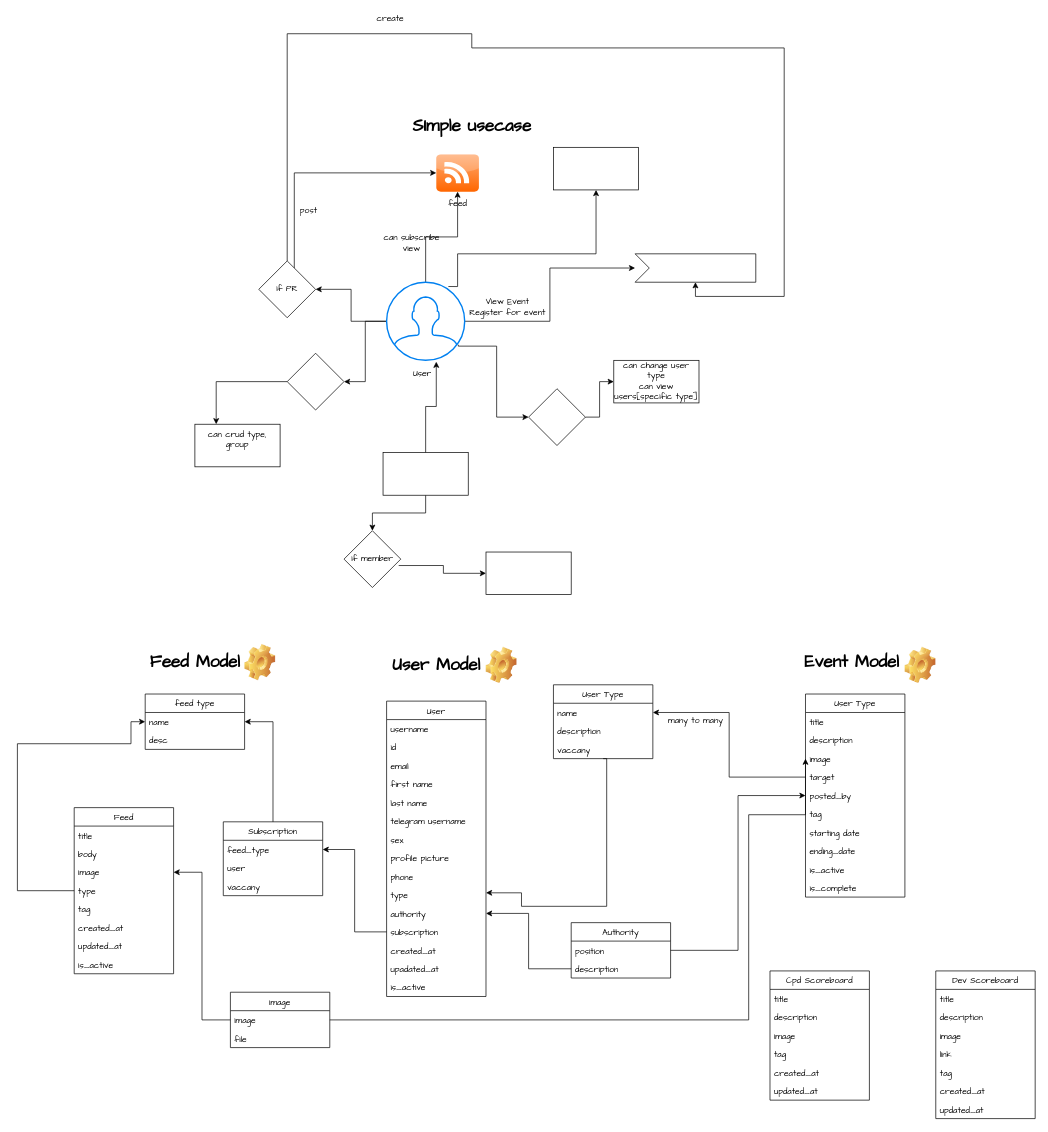
This 1048x1132 diagram has some shape labels left out. The shapes that lost their labels are listed below. From the top down, each one's centre as x and y in pixels, then its label:
At (x=596, y=168): "Register/signup login logout".
At (x=695, y=267): "Event".
At (x=315, y=381): "if Super user[president]".
At (x=556, y=417): "if head".
At (x=425, y=473): "Type member non member".
At (x=528, y=573): "can be member of division Can be division head".
